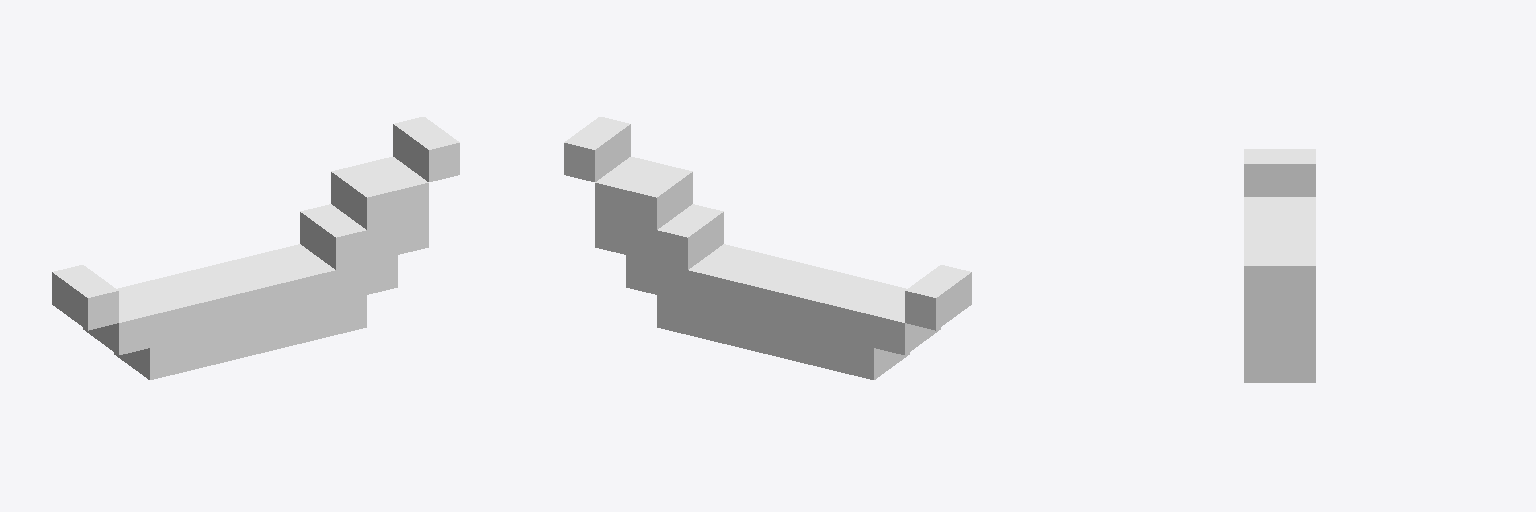
File: Banana.obj
The picture shows the model from 3 angles: view 1: azimuth 30°, elevation 25°; view 2: azimuth 150°, elevation 25°; view 3: azimuth 270°, elevation 25°; orthographic projection.
Visible parts, largest first — view 1: object 1; view 2: object 1; view 3: object 1.
Part boxes in pixels (left/top/right/bottom): object 1: left=52, top=117, right=459, bottom=379; object 1: left=564, top=117, right=971, bottom=379; object 1: left=1244, top=149, right=1315, bottom=382.
Size of the model in its own units: 1.2 by 0.5 by 0.2.